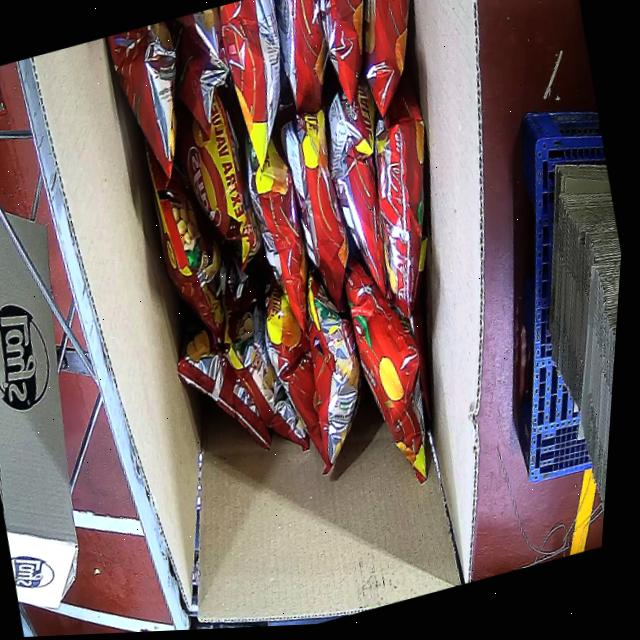MASALA: (69, 0, 527, 549)
